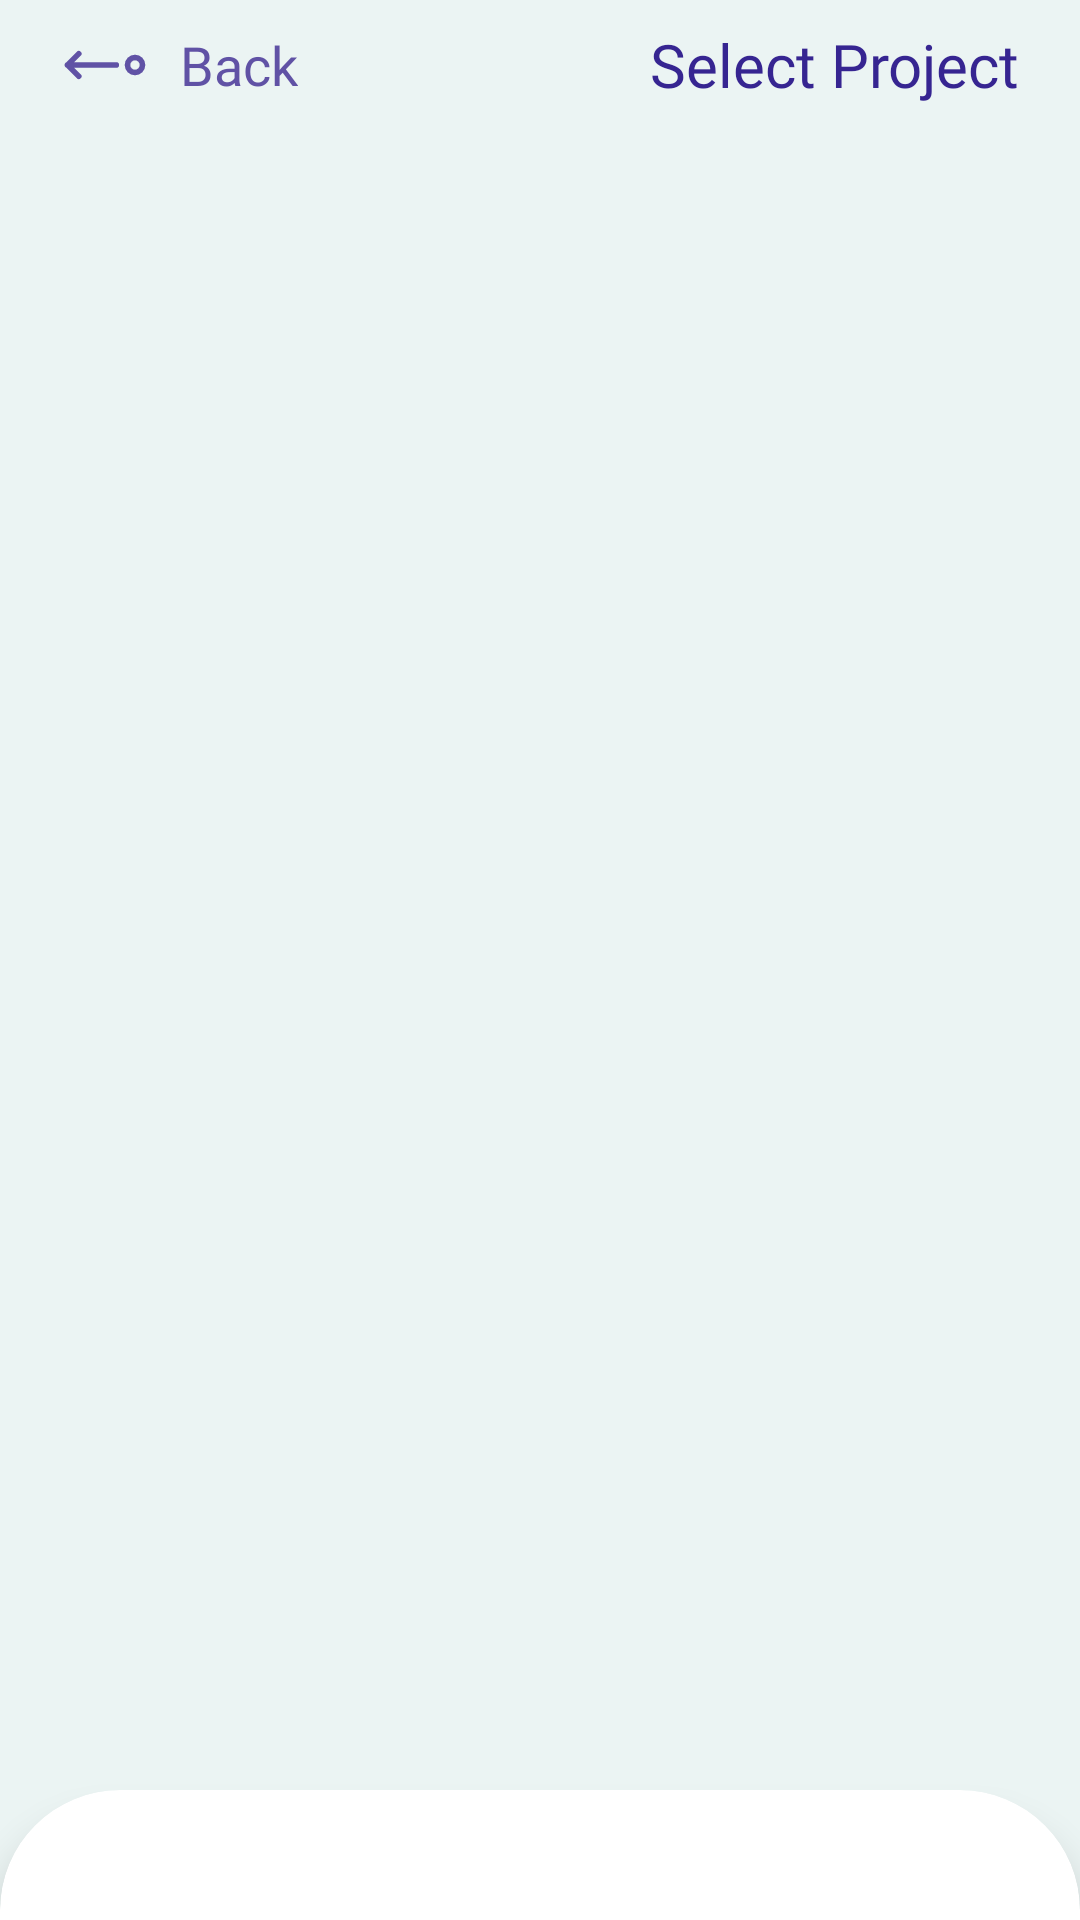

Named icons in this screenshot (1080px x 1920px) and their centers, [x,y]:
dot arrow left: [105,65]
